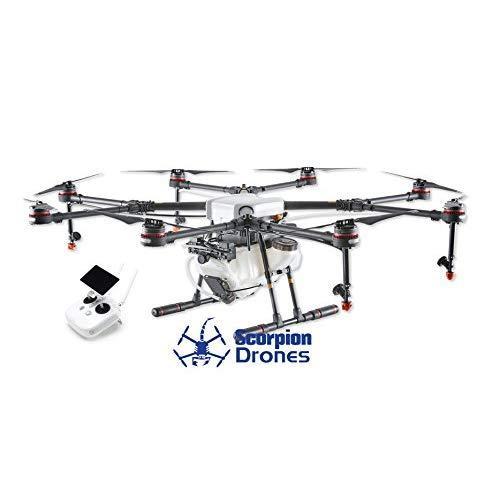drone: (20, 151, 482, 332)
